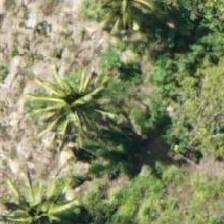Kelapa_Sawit: (28, 61, 118, 151), (0, 172, 86, 223), (86, 0, 176, 48)
